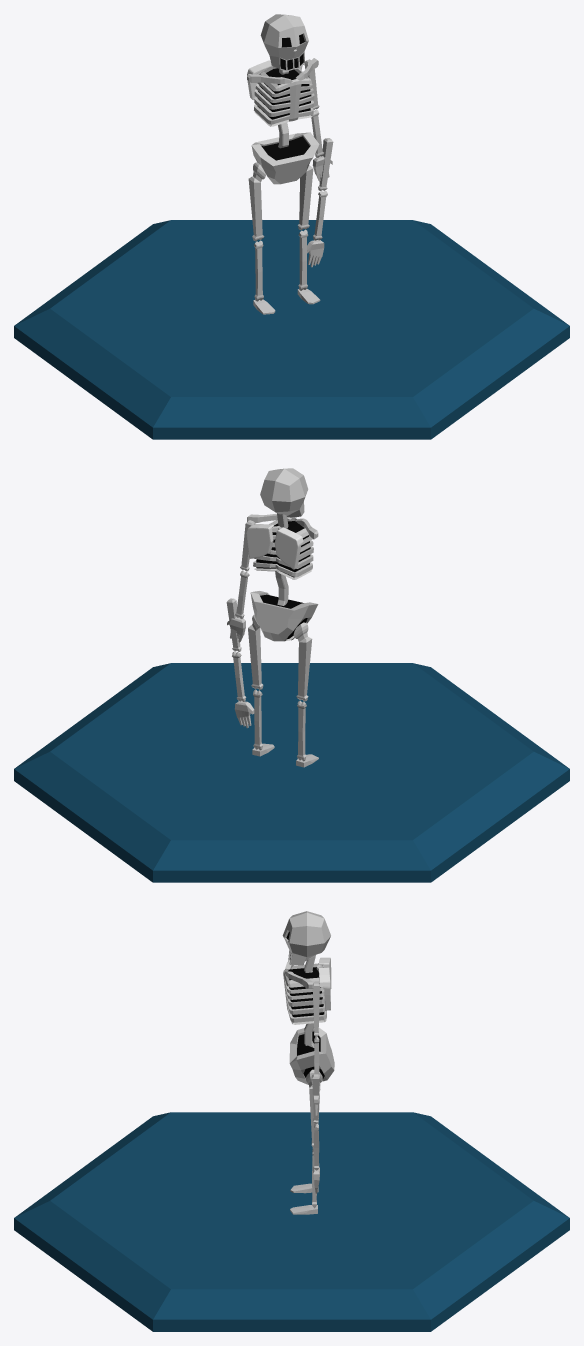
File: One_Hand_Figure.fbx
The picture shows the model from 3 angles, top to bottom: view 1: azimuth 30°, elevation 25°; view 2: azimuth 150°, elevation 25°; view 3: azimuth 270°, elevation 25°; orthographic projection.
Visible parts, largest first — view 1: Base, Ribs, Waist, Skull, Upper Leg Right, Upper Leg Left, Collar Bones; view 2: Base, Waist, Skull, Shoulder, Ribs, Upper Leg Right, Upper Leg Left; view 3: Base, Skull, Ribs, Waist, Shoulder.
Part boxes in pixels (<box>): Base: <box>14,220,569,439</box>; Ribs: <box>254,66,314,126</box>; Waist: <box>251,132,319,184</box>; Skull: <box>260,14,308,71</box>; Upper Leg Right: <box>248,162,265,241</box>; Upper Leg Left: <box>297,165,313,230</box>; Collar Bones: <box>247,58,318,83</box>; Base: <box>14,663,569,882</box>; Waist: <box>250,591,318,641</box>; Skull: <box>260,468,308,517</box>; Shoulder: <box>246,524,303,569</box>; Ribs: <box>253,518,313,579</box>; Upper Leg Right: <box>293,622,312,701</box>; Upper Leg Left: <box>248,614,263,689</box>; Base: <box>14,1112,569,1331</box>; Skull: <box>282,911,330,965</box>; Ribs: <box>283,963,326,1024</box>; Waist: <box>289,1027,334,1084</box>; Shoulder: <box>318,957,331,1010</box>.
Bounding box in the file's own units: 483 × 352 × 558.
